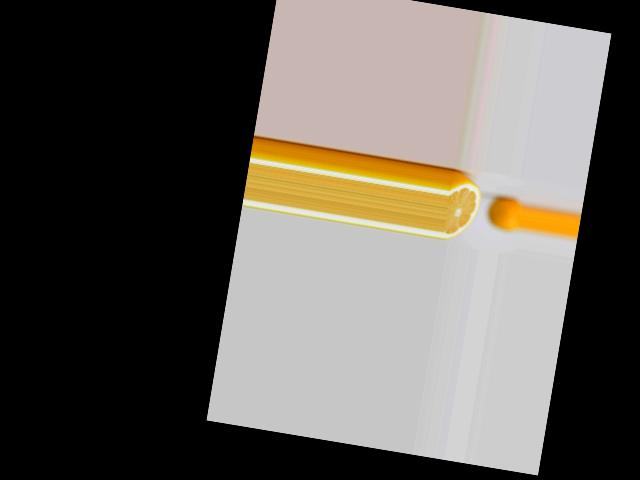lemon: (487, 198, 523, 230)
